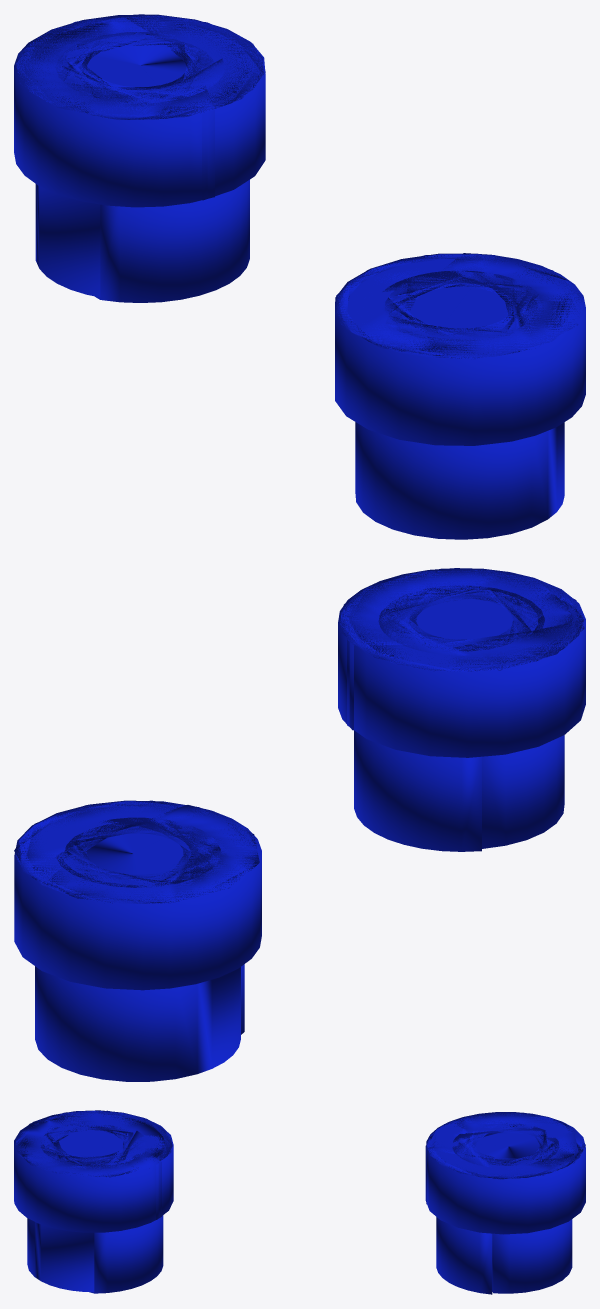
Rendered from tuyeau_element_000060.obj.
3 renders of one model, top to bottom at view 1: azimuth 30°, elevation 25°; view 2: azimuth 150°, elevation 25°; view 3: azimuth 270°, elevation 25°, orthographic. The views are drawn at different scales.
Visible parts, largest first — view 1: tuyeau1_Cube.014, tuyeau2_Cube.017; view 2: tuyeau2_Cube.017, tuyeau1_Cube.014; view 3: tuyeau1_Cube.014, tuyeau2_Cube.017.
Part boxes in pixels (box(x1,y1,x2,y2)): tuyeau1_Cube.014: box(14, 14, 265, 302); tuyeau2_Cube.017: box(335, 253, 585, 539); tuyeau2_Cube.017: box(338, 568, 585, 851); tuyeau1_Cube.014: box(14, 800, 261, 1081); tuyeau1_Cube.014: box(425, 1112, 585, 1294); tuyeau2_Cube.017: box(14, 1110, 173, 1293).
Bounding box in the file's own units: 3605 × 2917 × 12595.
